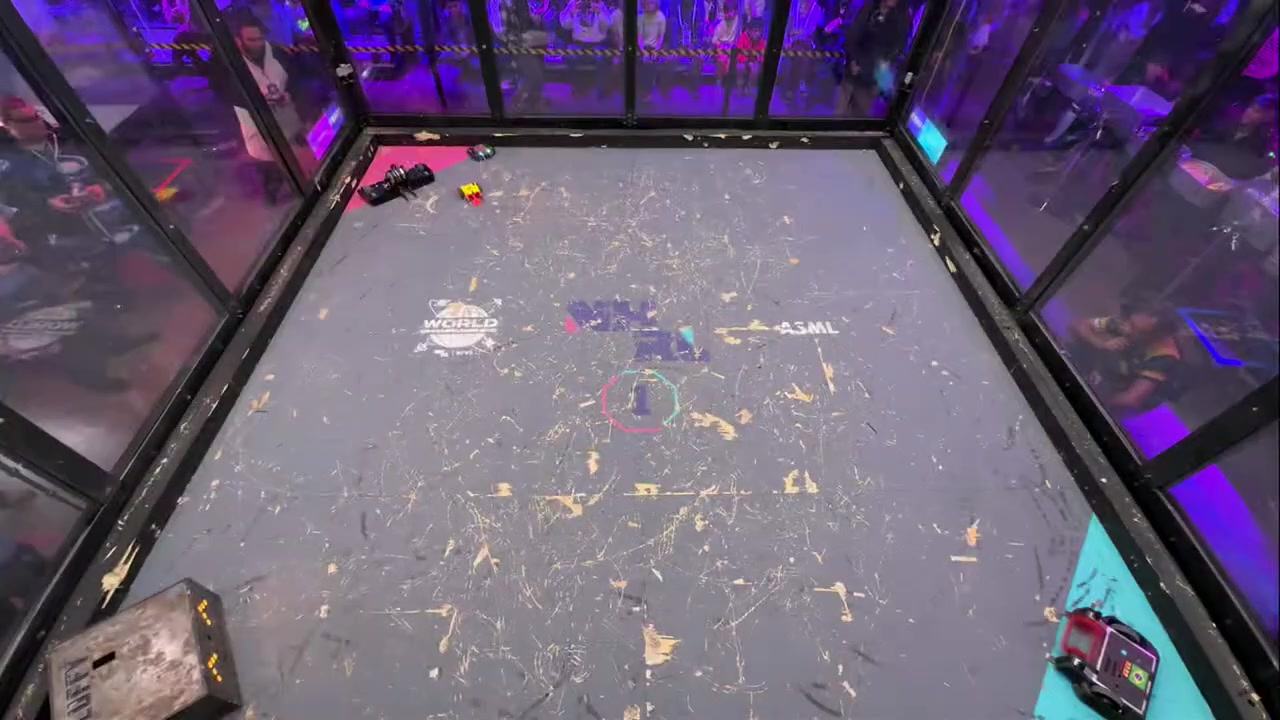combatbot: (1079, 617, 1159, 717), (362, 164, 432, 207)
housebot: (49, 578, 241, 720)
minibot: (460, 185, 480, 200), (473, 146, 492, 159)
